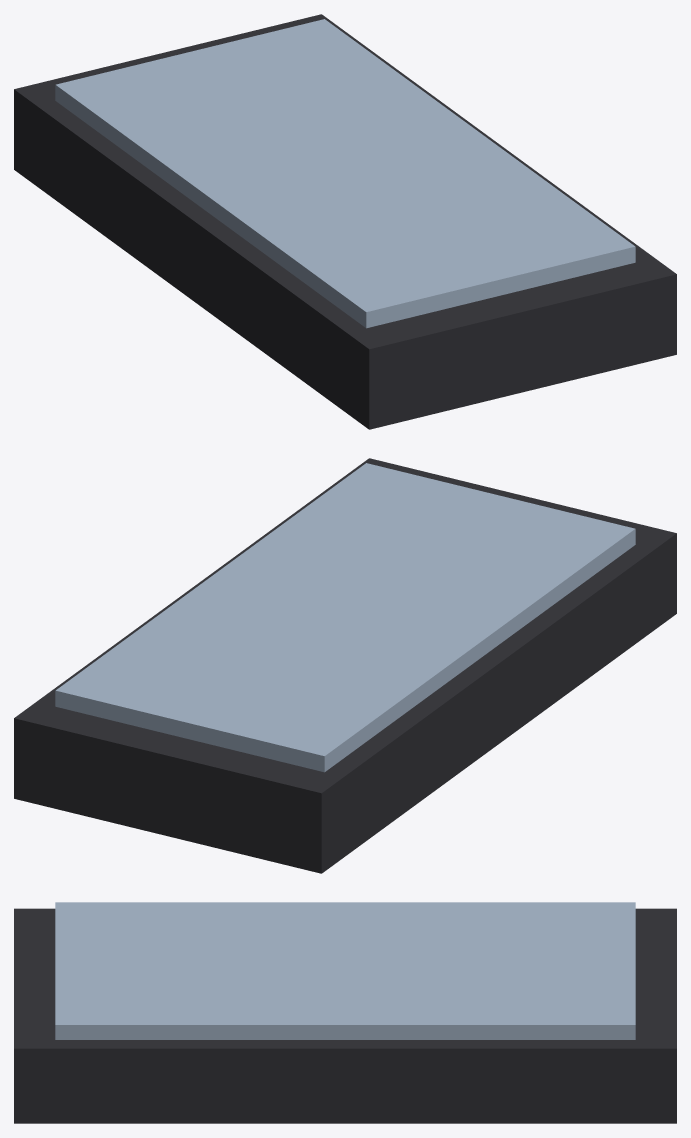
The model's file is Esya_Telefon.glb.
3 renders of one model, top to bottom at view 1: azimuth 30°, elevation 25°; view 2: azimuth 150°, elevation 25°; view 3: azimuth 270°, elevation 25°, orthographic. The views are drawn at different scales.
Parts seen in each view (by area): view 1: Esya_Telefon; view 2: Esya_Telefon; view 3: Esya_Telefon.
Boxes of the visible parts, x1,y1,x2,y2 form: Esya_Telefon: (14, 14, 676, 429); Esya_Telefon: (14, 458, 676, 873); Esya_Telefon: (14, 902, 676, 1123).
Size of the model in its own units: 0.08 by 0.024 by 0.16.
